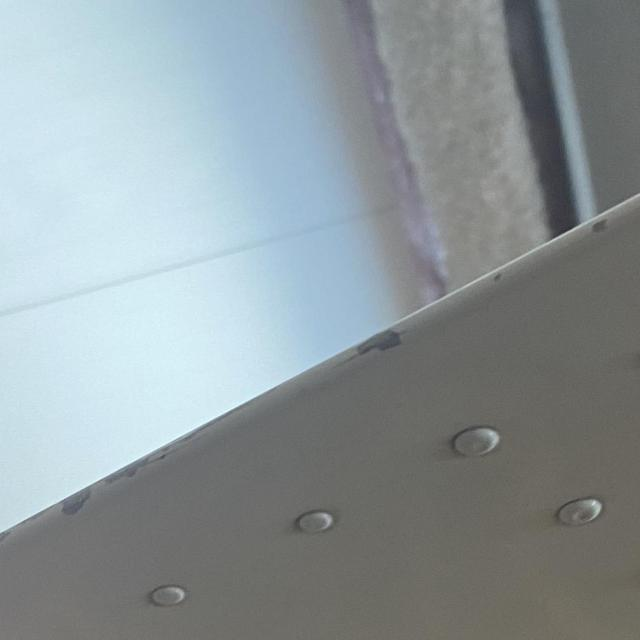Paint-off: (98, 455, 148, 483), (354, 327, 402, 353), (59, 487, 89, 513), (587, 219, 611, 235), (0, 530, 8, 542)
